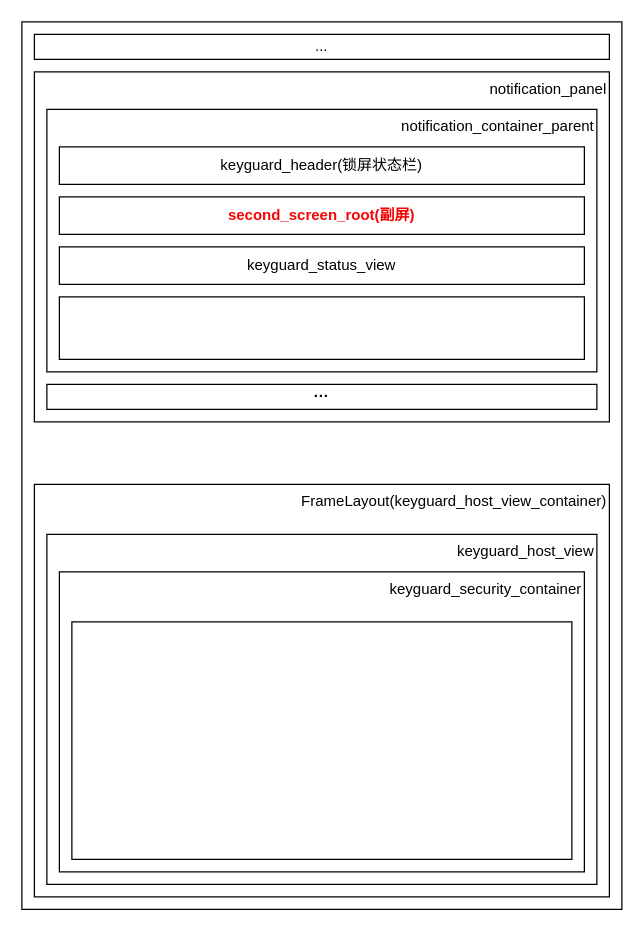
Some shapes in this 644 by 931 pixel diagram are drawn without their labels. The shapes that lost their labels are listed below. From the top down, each one's centre as x and y in pixels, then its label:
the point at 321,327: notification_stack_scroller
the point at 321,740: password(密码页面)
